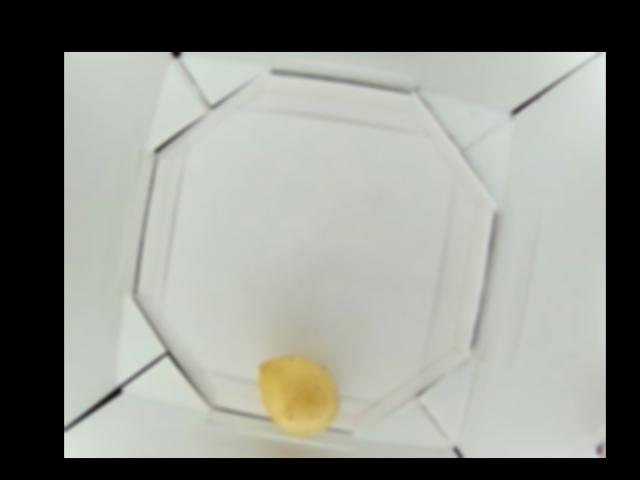Potato: (256, 354, 337, 439)
